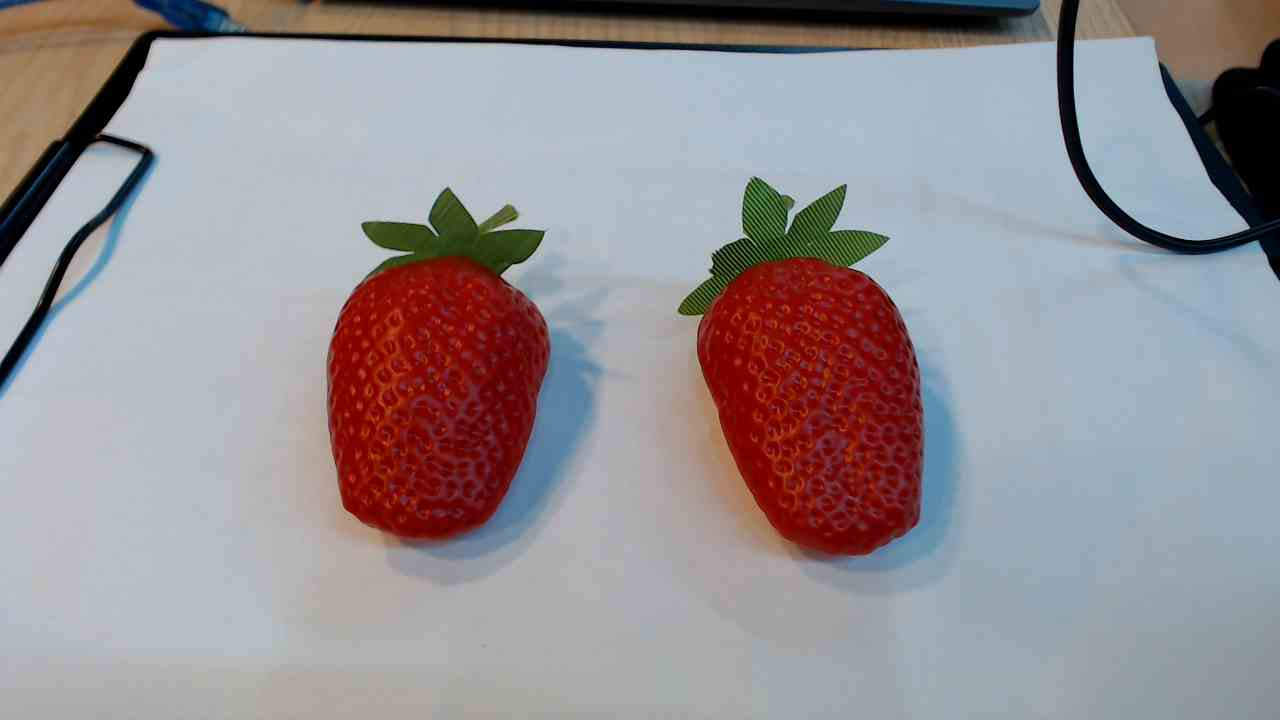strawberry: (696, 261, 938, 564), (324, 256, 561, 551)
